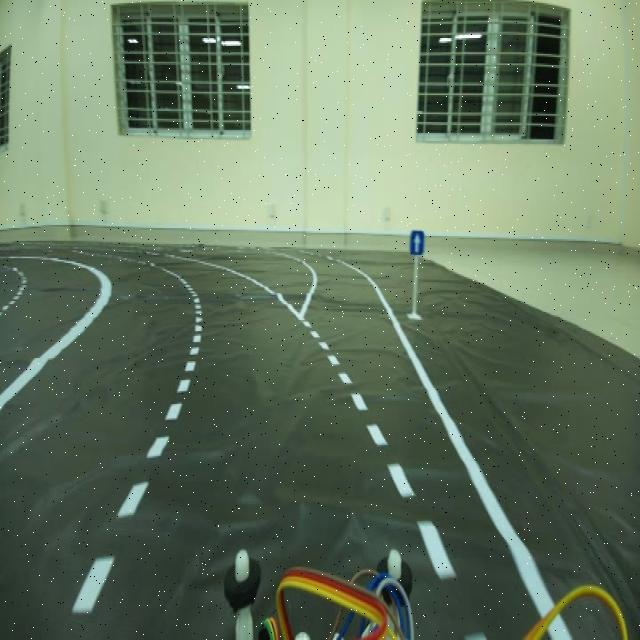onewayroad: (404, 219, 428, 263)
